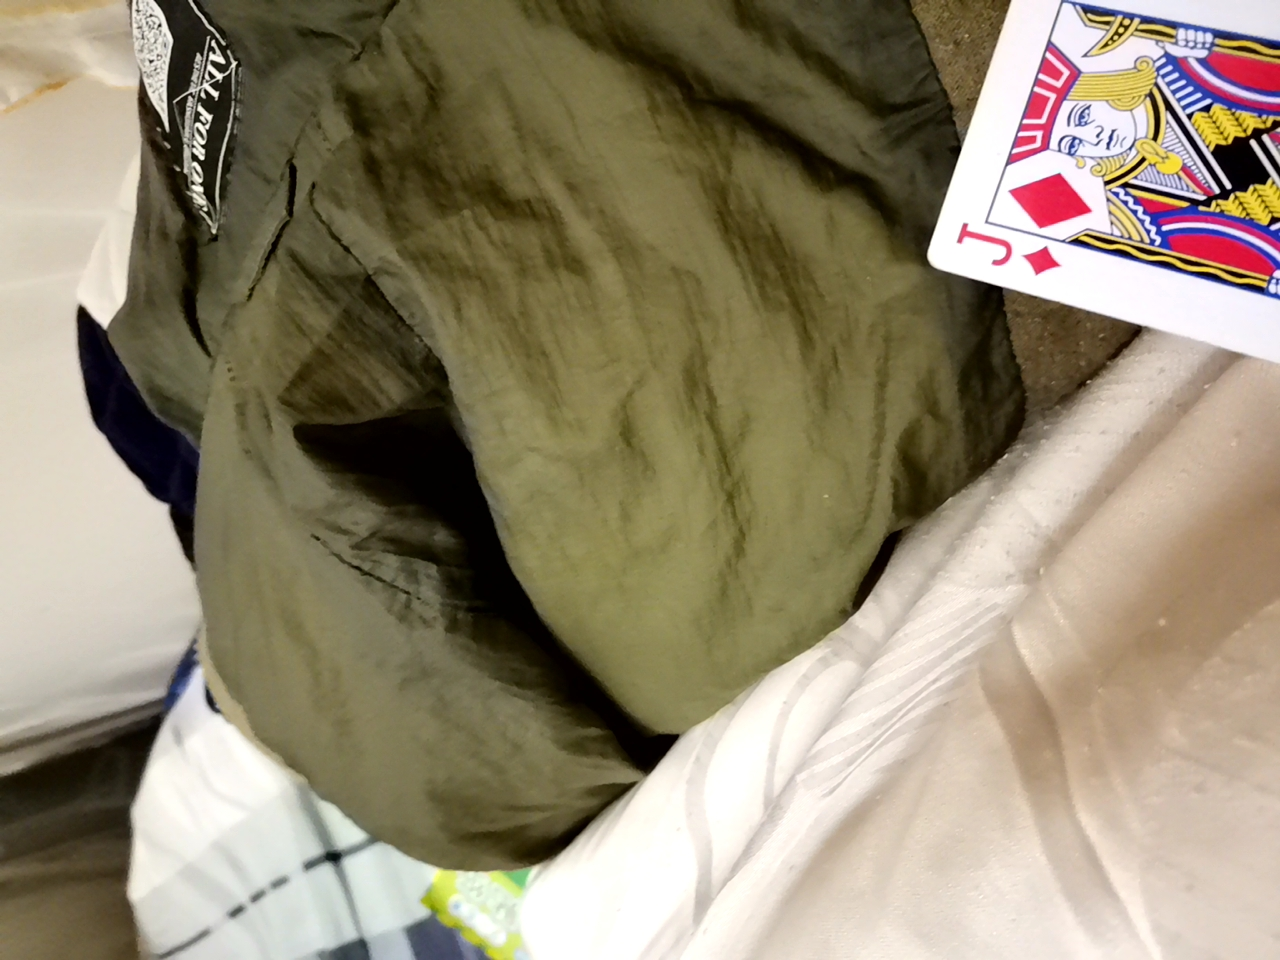fk j: (930, 7, 1280, 430)
